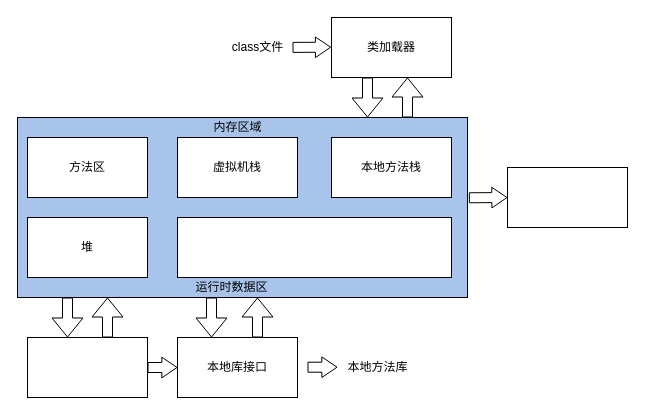
The diagram is 645 pixels wide and 415 high, and some of its shapes have lost their labels. Here are the shapes that lost their labels. From the top down, the centre of each, then its label:
the point at 567,197: 垃圾收集器
the point at 314,247: 程序计数器
the point at 87,367: 执行引擎
